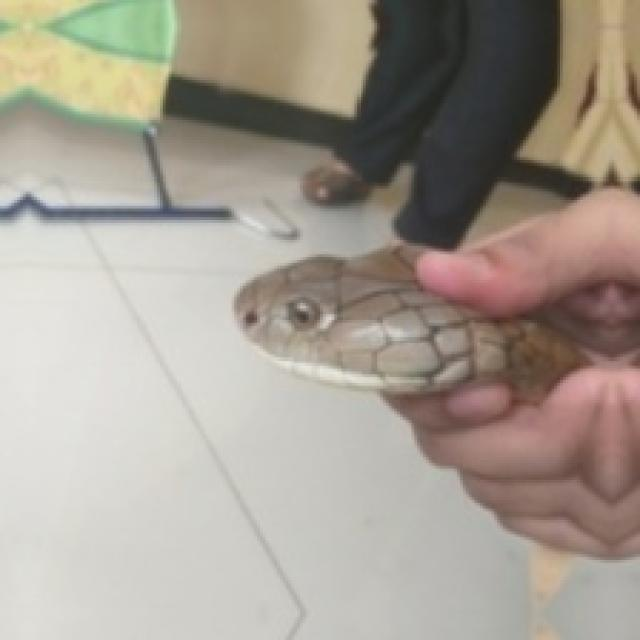king cobra: (234, 246, 583, 400)
